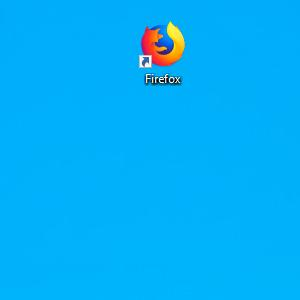firefox: (139, 21, 185, 69)
